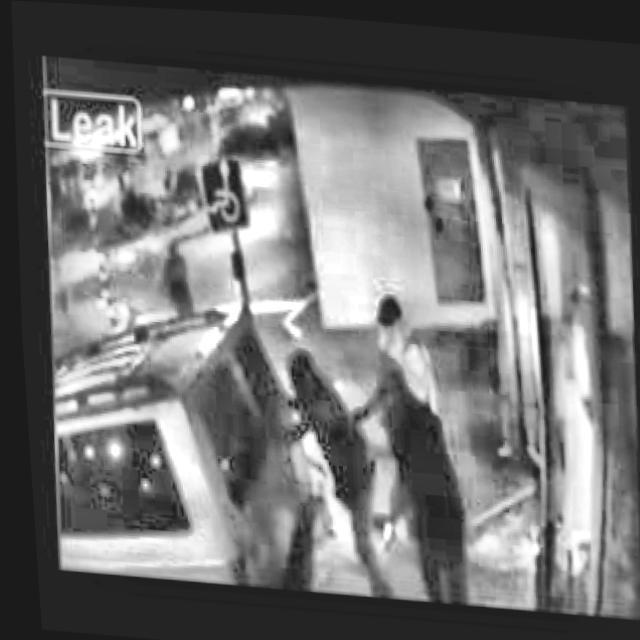Weapon: (288, 303, 530, 603)
